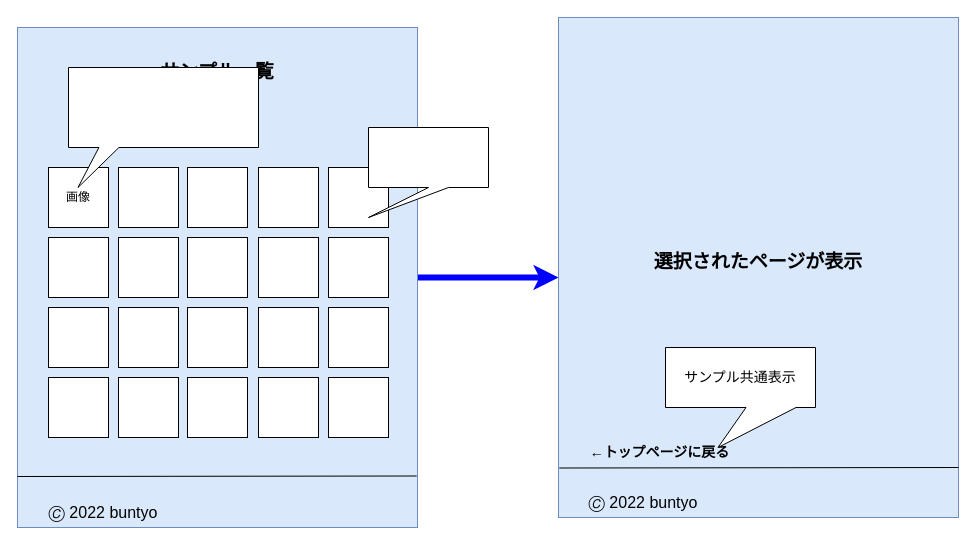
Image size: 977x545. Some labels were removed from this diagram. Each missing label, with the centre of its shape:
"マウスオーバーすると、 画像の色が変わって、 説明文画像の上に表示される" belongs at (x=163, y=127).
"画像選択で 画面遷移" belongs at (x=428, y=172).
